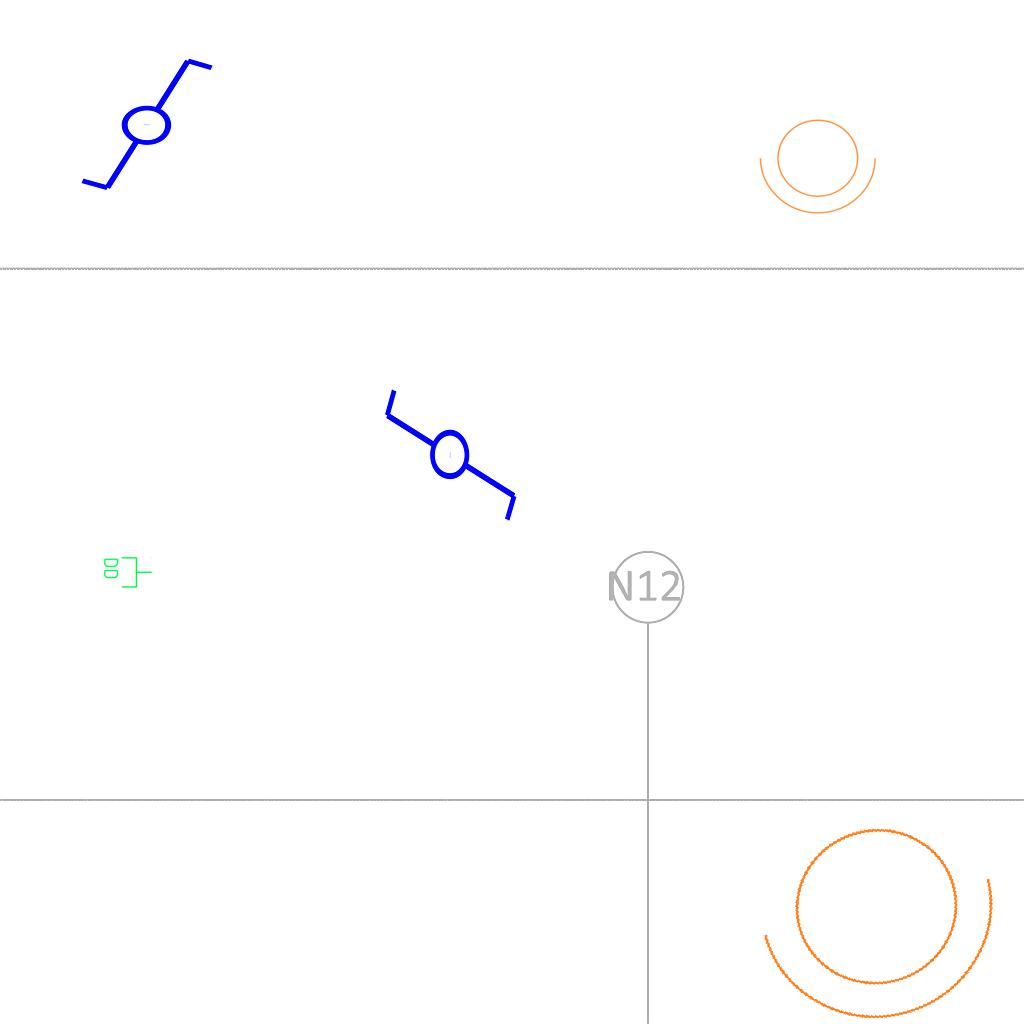Datenanschluss_zweifach: (102, 555, 153, 589)
Scheinwerfer_fuer_Alarmbeleuchtung: (729, 773, 1024, 1024), (755, 107, 887, 219)
Wechselschalter: (60, 51, 217, 195), (380, 368, 524, 525)
